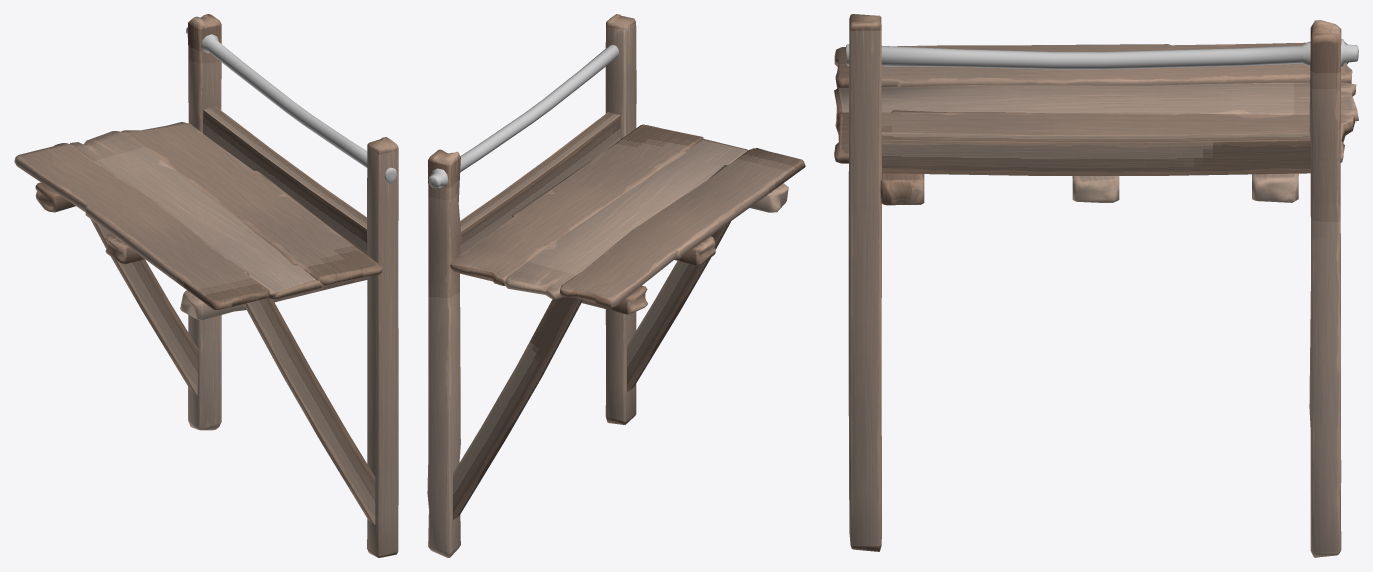
The model's file is SM_Walkway_01.fbx.
3 views of the same model, side by side, from view 1: azimuth 30°, elevation 25°; view 2: azimuth 150°, elevation 25°; view 3: azimuth 270°, elevation 25° (orthographic). The views are drawn at different scales.
Parts seen in each view (by area): view 1: SM_Walkway_01_LOD0; view 2: SM_Walkway_01_LOD0; view 3: SM_Walkway_01_LOD0.
Boxes of the visible parts, x1,y1,x2,y2 form: SM_Walkway_01_LOD0: [14, 14, 398, 557]; SM_Walkway_01_LOD0: [427, 14, 805, 557]; SM_Walkway_01_LOD0: [834, 14, 1358, 557].
Size of the model in its own units: 202 by 363 by 408.
